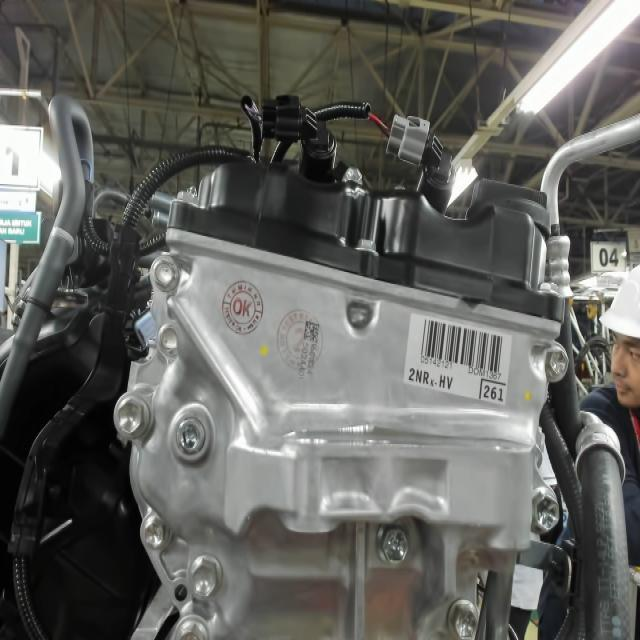Engine Assy-261: (475, 378, 509, 407)
Hose Canister-MR: (48, 217, 80, 259)
